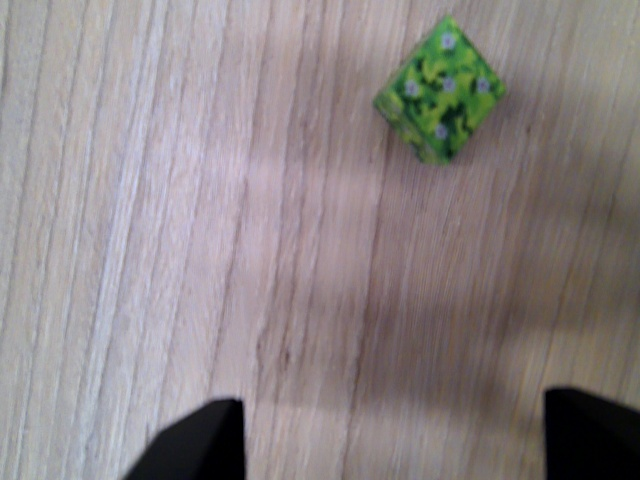grass: (374, 16, 508, 165)
